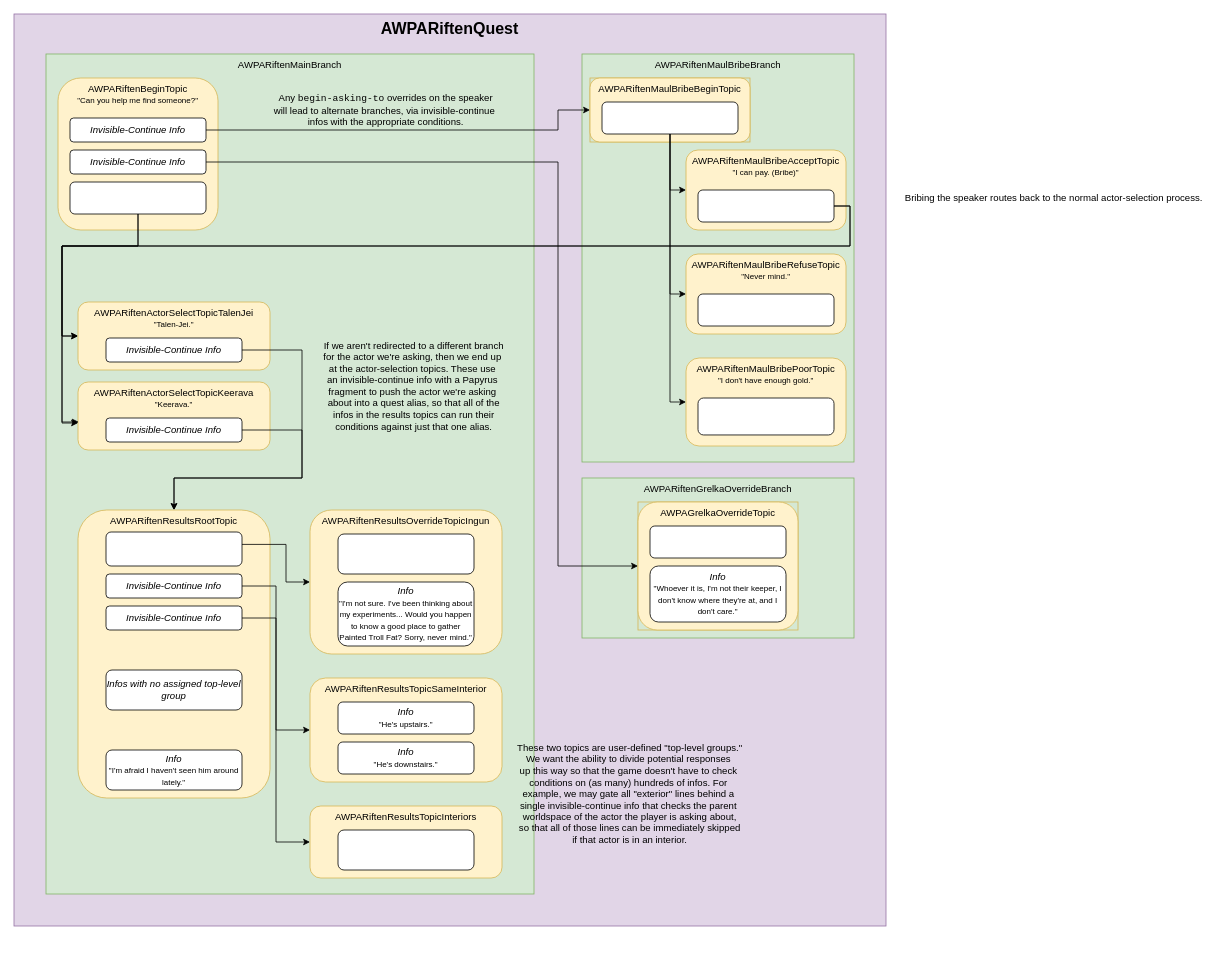
This 1228x964 diagram has some shape labels left out. The shapes that lost their labels are listed below. From the top down, each one's centre as x and y in pixels, then its label:
(x=669, y=117): Info "Sure... but it'll cost you."
(x=137, y=197): Info "Who are you looking for?"
(x=765, y=205): Info "All right. Who are you looking for?"
(x=765, y=309): Info "Suit yourself."
(x=765, y=416): Info "Then stop wasting my time."
(x=173, y=548): Invisible-Continue Info [Ingun: begin-responding]
(x=405, y=553): Info "I've been too focused on my experiments to really notice him."
(x=717, y=541): Info "No."
(x=405, y=849): Info "I believe I saw him by the Bee and Barb a little while ago."
